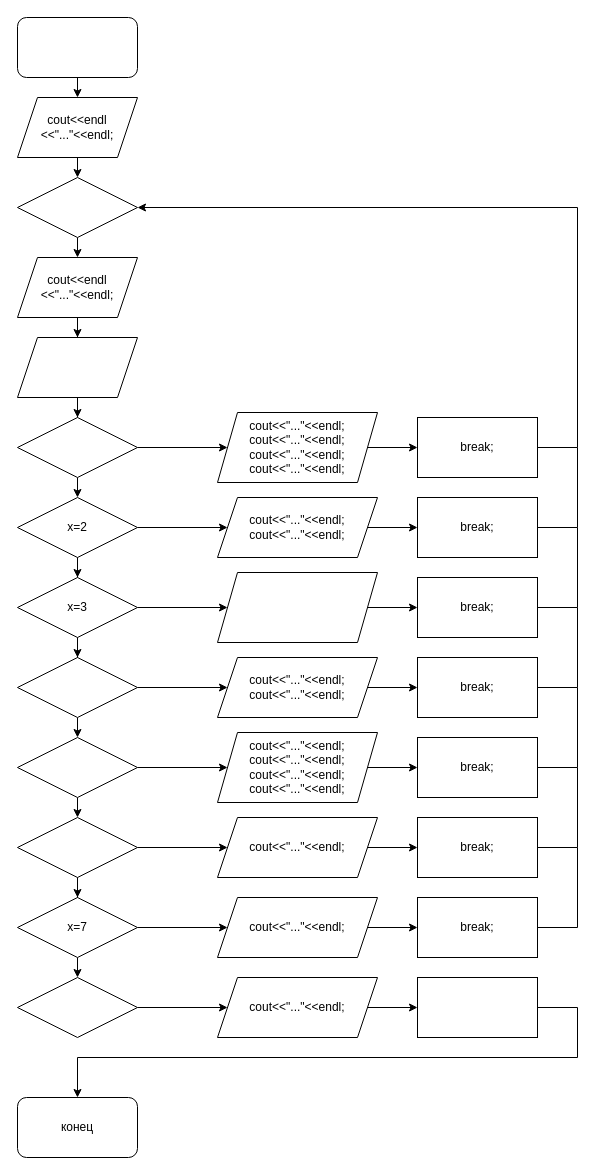
Some shapes in this 603 by 1175 pixel diagram are drawn without their labels. Each missing label, with the centre of its shape:
cin >> x;: pixel 77 367
continue 0;: pixel 477 1007
cout<<"..."<<endl; cout<<"..."<<endl; cout<<"..."<<endl;: pixel 297 607
default: pixel 77 1007
while (true): pixel 77 207
x=1: pixel 77 447
x=4: pixel 77 687
x=5: pixel 77 767
x=6: pixel 77 847
начало: pixel 77 47
